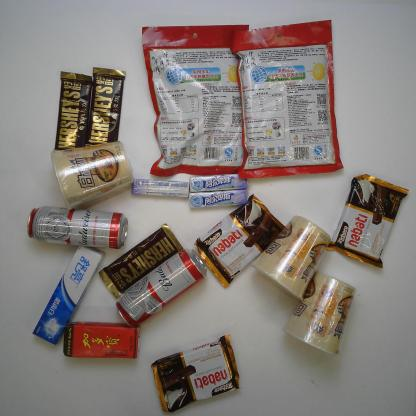Alcohol: (115, 248, 208, 328), (26, 206, 130, 250)
Candy: (188, 173, 249, 193), (130, 178, 190, 198), (188, 189, 247, 209)
Chocolate: (98, 222, 184, 300), (85, 66, 126, 148), (53, 70, 93, 152)
Dessert: (193, 193, 286, 289), (325, 172, 410, 270), (148, 333, 243, 413)
Drink: (62, 320, 142, 360)
Instant Drink: (228, 19, 345, 181), (141, 24, 250, 177)
Instant Noodles: (250, 214, 332, 301), (281, 271, 356, 356), (50, 140, 134, 210)
Personal Hygiene: (30, 243, 106, 347)
